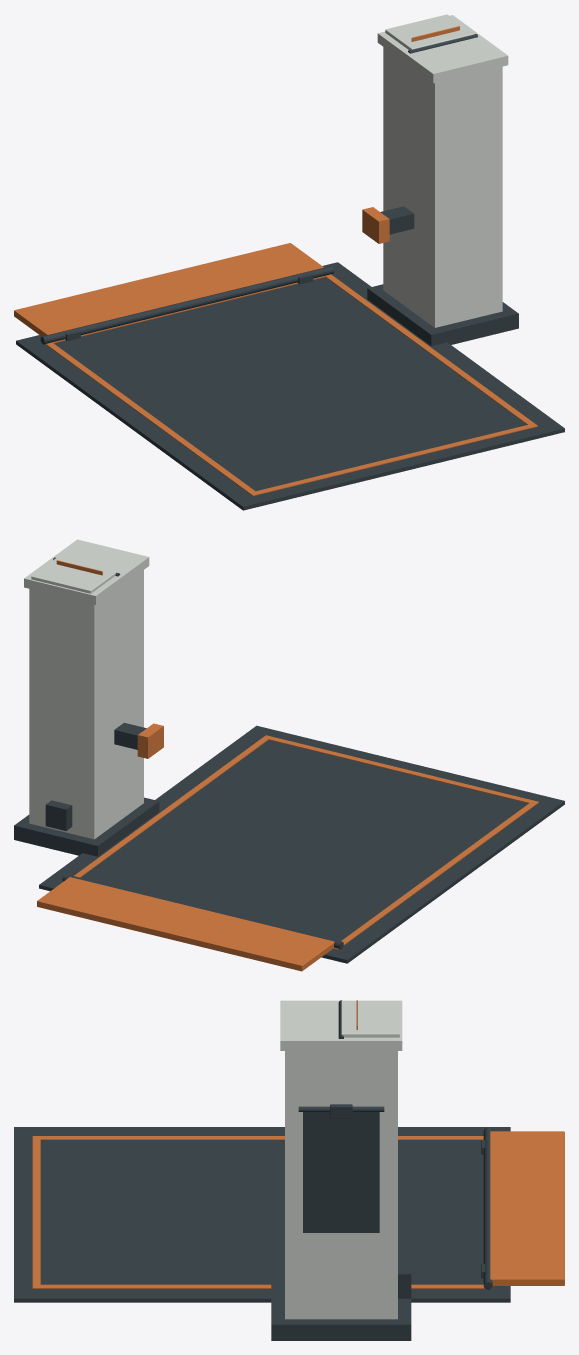
File: charger.glb
The picture shows the model from 3 angles, top to bottom: view 1: azimuth 30°, elevation 25°; view 2: azimuth 150°, elevation 25°; view 3: azimuth 270°, elevation 25°; orthographic projection. The views are drawn at different scales.
Parts seen in each view (by area): view 1: Foundation, Cabinet, StopGatePanel, BayMark, CabinetCap, CabinetFoot, StopGateAxle, StatusPaddlePanel, ContactHead, ArmStem; view 2: Foundation, Cabinet, StopGatePanel, BayMark, CabinetCap, CabinetFoot, StatusPaddlePanel, StopGateAxle, ContactHead, PowerInGuard, ArmStem; view 3: Foundation, Cabinet, StopGatePanel, ServicePanel, BayMark, CabinetCap, CabinetFoot, StatusPaddlePanel, StopGateAxle, PowerInGuard.
Part boxes in pixels (bbox=[...]): Foundation: bbox=[16, 262, 564, 510]; Cabinet: bbox=[383, 47, 502, 327]; StopGatePanel: bbox=[14, 243, 323, 336]; BayMark: bbox=[45, 274, 537, 495]; CabinetCap: bbox=[377, 15, 508, 83]; CabinetFoot: bbox=[367, 284, 518, 345]; StopGateAxle: bbox=[40, 266, 333, 344]; StatusPaddlePanel: bbox=[385, 14, 473, 50]; ContactHead: bbox=[362, 207, 389, 243]; ArmStem: bbox=[380, 206, 414, 234]; Foundation: bbox=[39, 725, 564, 963]; Cabinet: bbox=[29, 570, 143, 839]; StopGatePanel: bbox=[37, 877, 334, 971]; BayMark: bbox=[74, 735, 539, 949]; CabinetCap: bbox=[24, 539, 149, 604]; CabinetFoot: bbox=[14, 797, 159, 856]; StatusPaddlePanel: bbox=[31, 557, 116, 593]; StopGateAxle: bbox=[62, 874, 343, 949]; ContactHead: bbox=[137, 723, 163, 758]; PowerInGuard: bbox=[45, 800, 72, 830]; ArmStem: bbox=[114, 722, 146, 749]; Foundation: bbox=[14, 1127, 510, 1302]; Cabinet: bbox=[285, 1051, 397, 1319]; StopGatePanel: bbox=[490, 1131, 564, 1285]; ServicePanel: bbox=[303, 1112, 379, 1232]; BayMark: bbox=[32, 1136, 492, 1288]; CabinetCap: bbox=[280, 1000, 402, 1050]; CabinetFoot: bbox=[271, 1277, 411, 1340]; StatusPaddlePanel: bbox=[341, 1000, 399, 1037]; StopGateAxle: bbox=[483, 1127, 492, 1289]; PowerInGuard: bbox=[398, 1262, 411, 1298].
Bounding box in the file's own units: 2.2 × 1.49 × 2.44.
